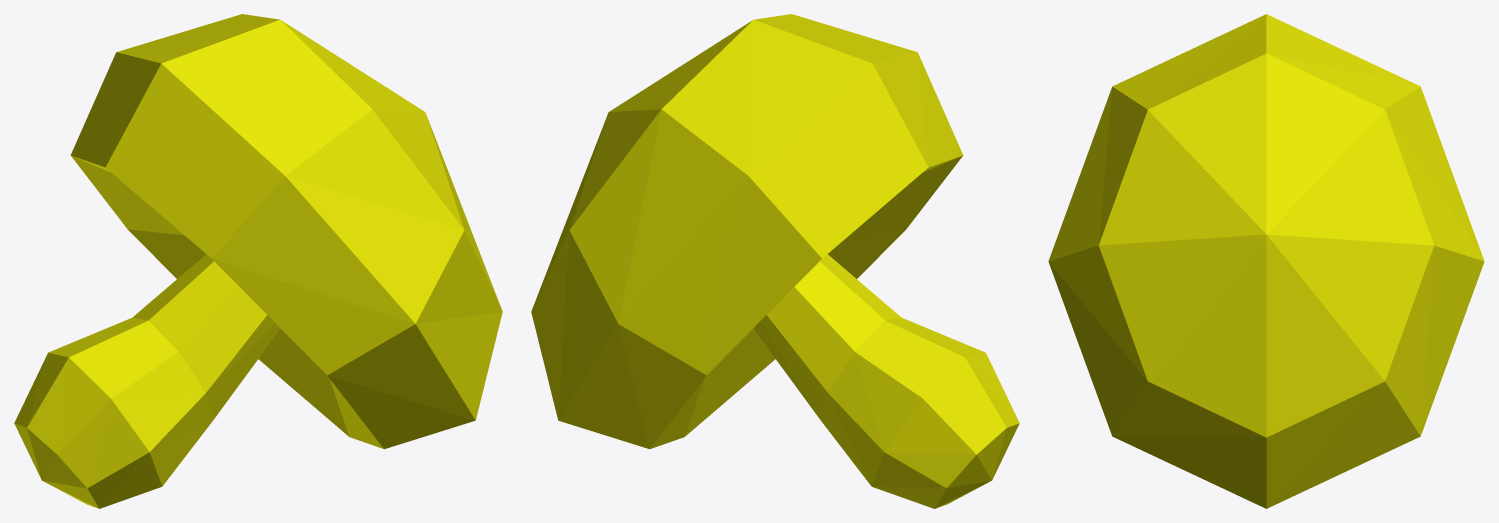
3 views of the same model, side by side, from view 1: azimuth 30°, elevation 25°; view 2: azimuth 150°, elevation 25°; view 3: azimuth 270°, elevation 25° (orthographic). The views are drawn at different scales.
Parts seen in each view (by area): view 1: mushroom; view 2: mushroom; view 3: mushroom.
Boxes of the visible parts, x1,y1,x2,y2 form: mushroom: (14, 14, 502, 508); mushroom: (531, 14, 1019, 508); mushroom: (1048, 14, 1484, 508).
Size of the model in its own units: 0.1169 by 0.1117 by 0.1107.
Materials: 1 (1 with a texture image).
